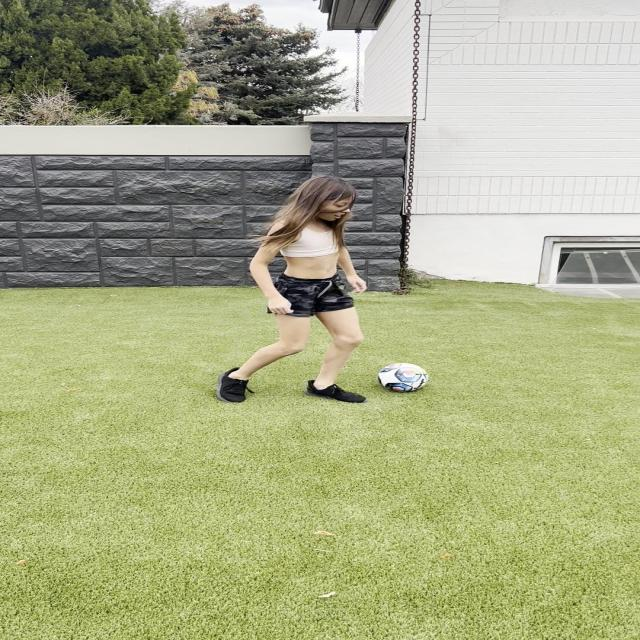Soccer Ball: (378, 363, 429, 393)
